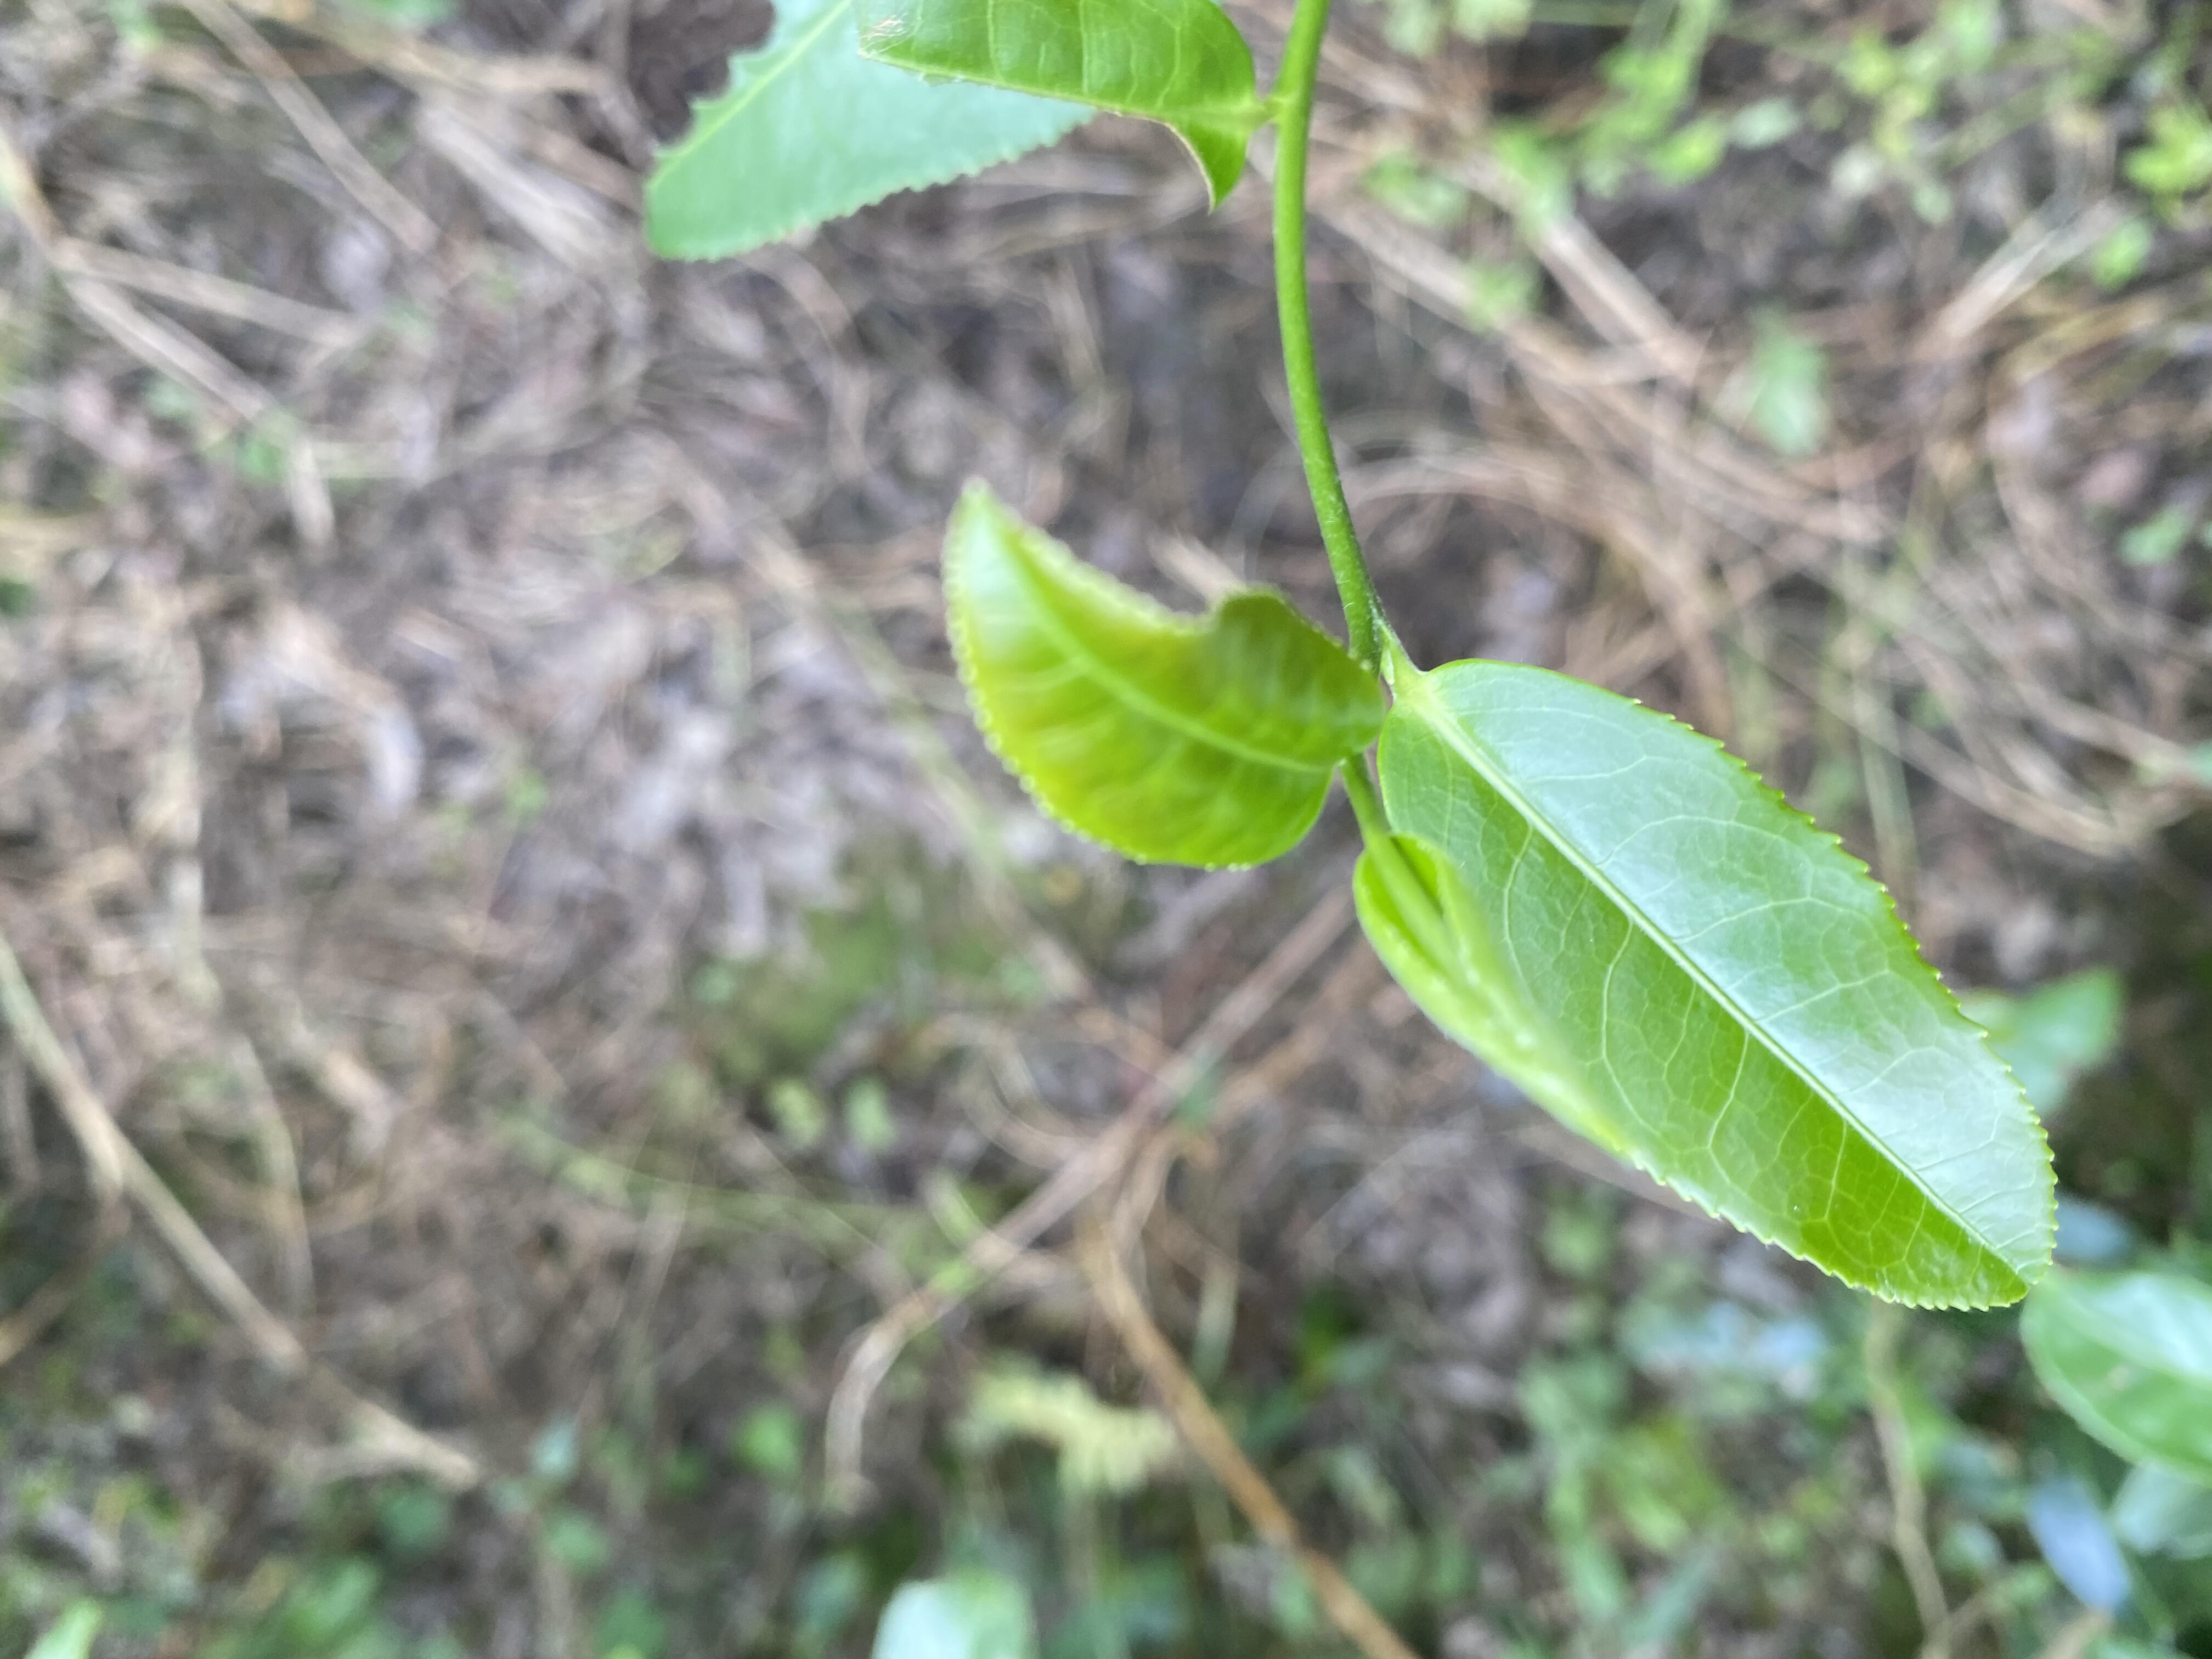chihuo_high: (634, 2, 1097, 267), (852, 2, 1261, 218)
healthy: (1379, 652, 2062, 1310), (942, 476, 1395, 866)
